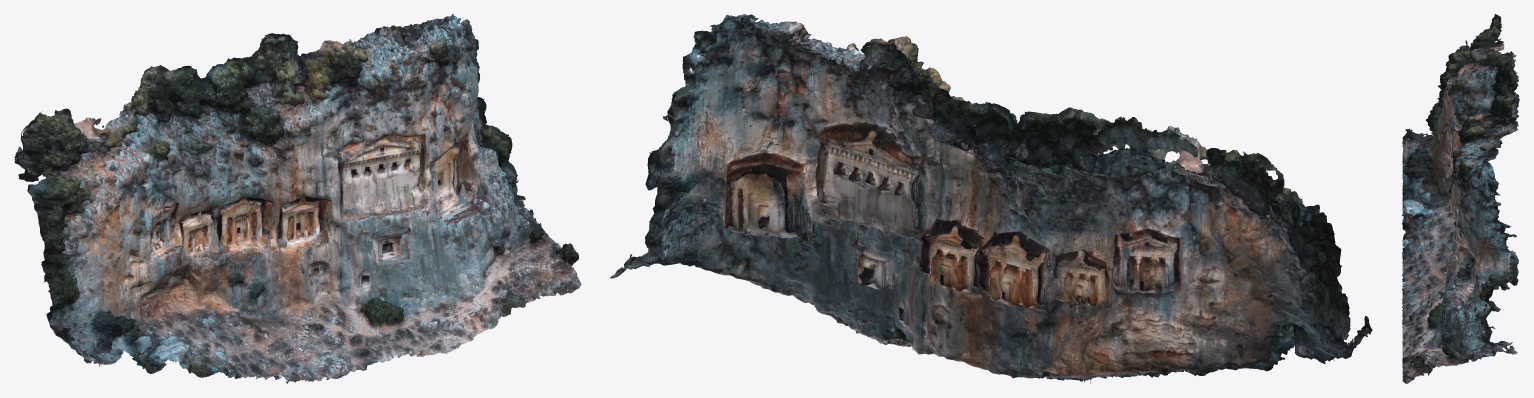
Rendered from sf-lycian-rock-cut-tombs-of-dalyan-0a7bc1.glb.
The picture shows the model from 3 angles, left to right: view 1: azimuth 30°, elevation 25°; view 2: azimuth 150°, elevation 25°; view 3: azimuth 270°, elevation 25°; orthographic projection. The views are drawn at different scales.
Parts seen in each view (by area): view 1: Lycianc tombs _material_0; view 2: Lycianc tombs _material_0; view 3: Lycianc tombs _material_0.
Part boxes in pixels (box(x1,y1,x2,y2)): Lycianc tombs _material_0: box(14, 14, 581, 383); Lycianc tombs _material_0: box(610, 14, 1372, 383); Lycianc tombs _material_0: box(1402, 14, 1519, 383).
Bounding box in the file's own units: 2394 × 1290 × 621.
1 material, 1 textured.
